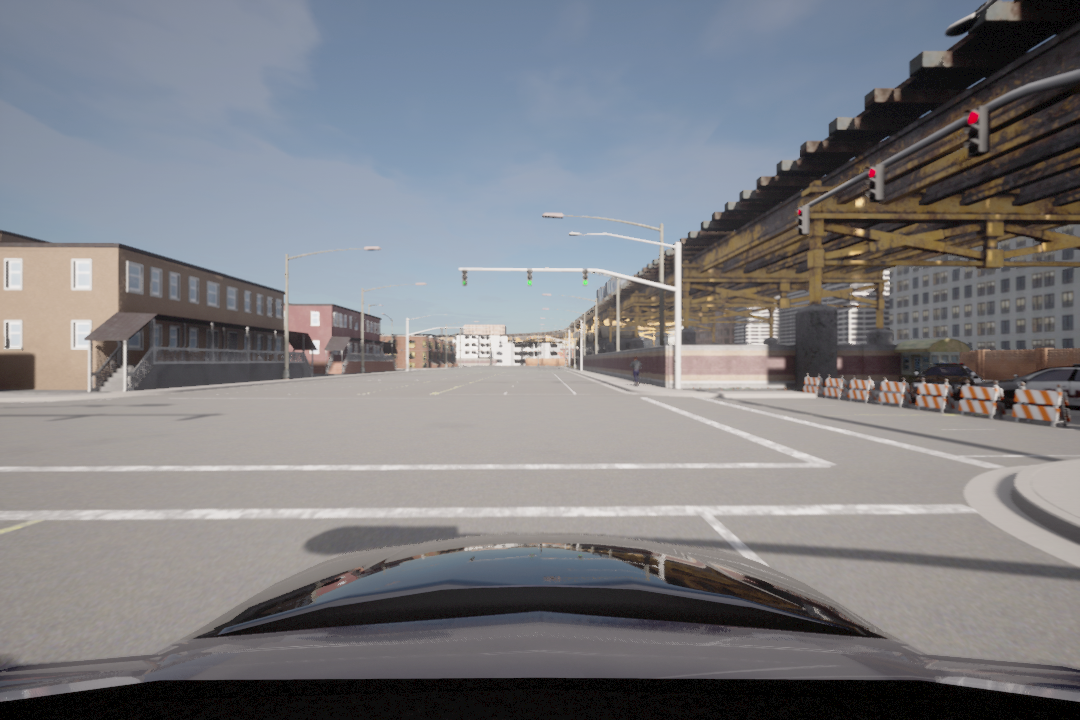TrafficLight: (961, 104, 990, 158), (864, 164, 883, 204), (794, 207, 814, 240), (460, 267, 471, 291), (581, 269, 594, 287), (524, 267, 536, 286)
